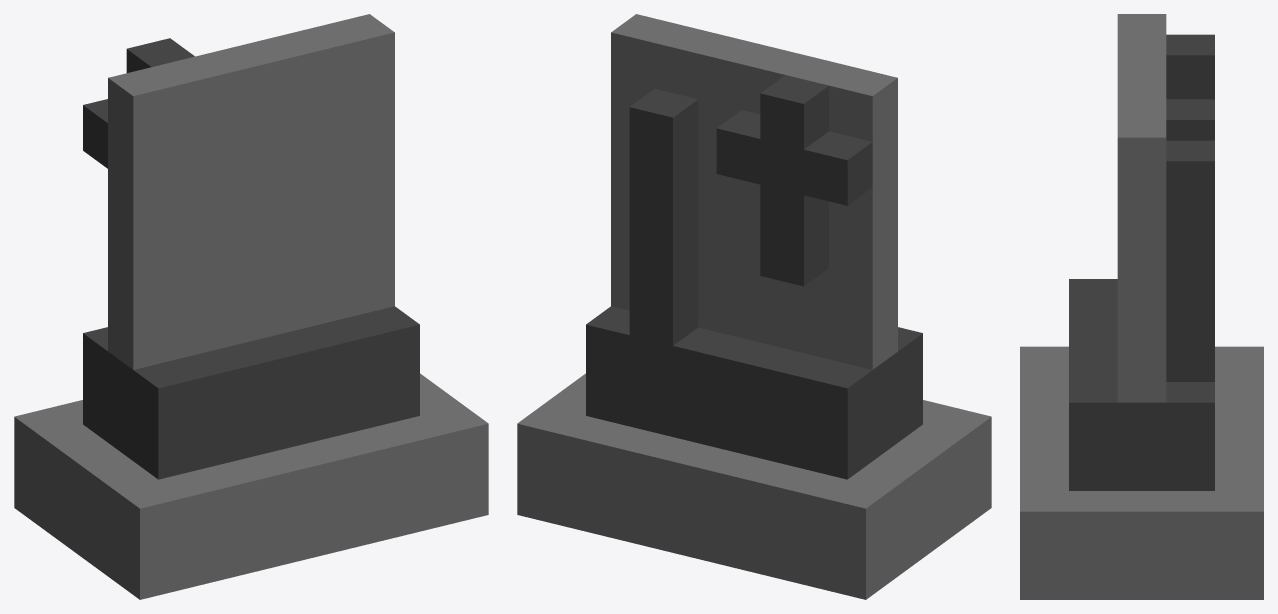
The model's file is obj_grave2.fbx.
3 views of the same model, side by side, from view 1: azimuth 30°, elevation 25°; view 2: azimuth 150°, elevation 25°; view 3: azimuth 270°, elevation 25° (orthographic). The views are drawn at different scales.
Parts seen in each view (by area): view 1: obj_grave2; view 2: obj_grave2; view 3: obj_grave2.
Part boxes in pixels (x1,y1,x2,y2): obj_grave2: (14, 14, 488, 599); obj_grave2: (517, 14, 991, 599); obj_grave2: (1020, 14, 1263, 599).
Bounding box in the file's own units: 0.8 × 0.5 × 1.
1 material, 1 textured.
